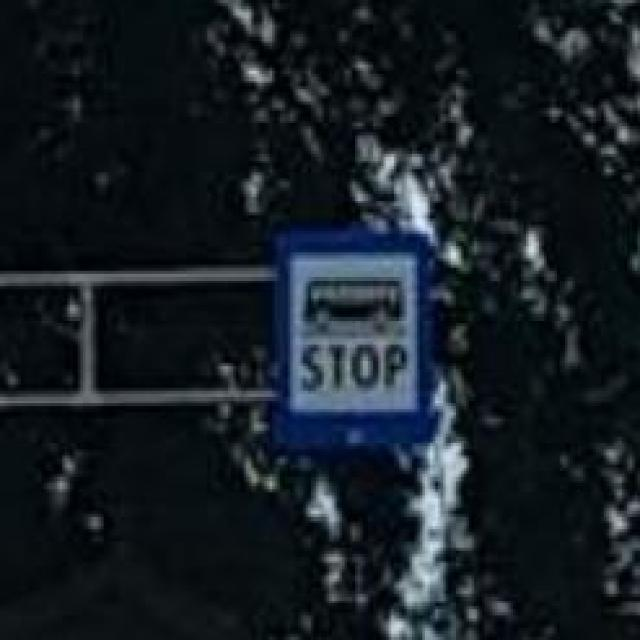traffic sign: (272, 228, 432, 450)
